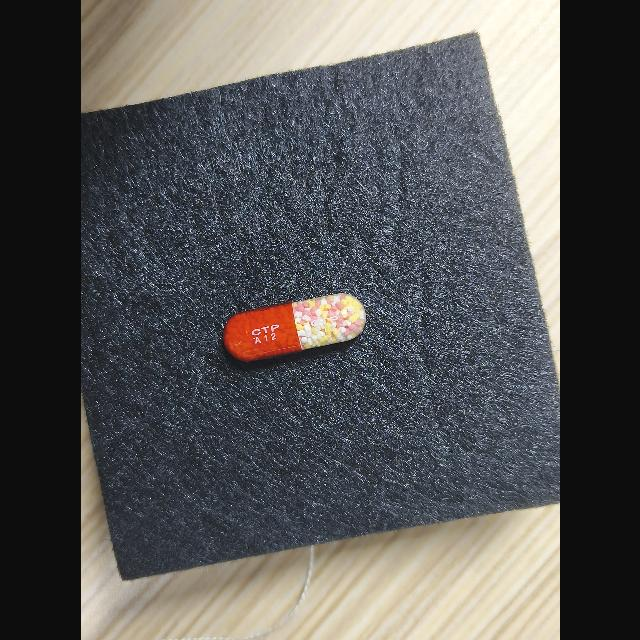Intact Capsule: (223, 293, 365, 361)
